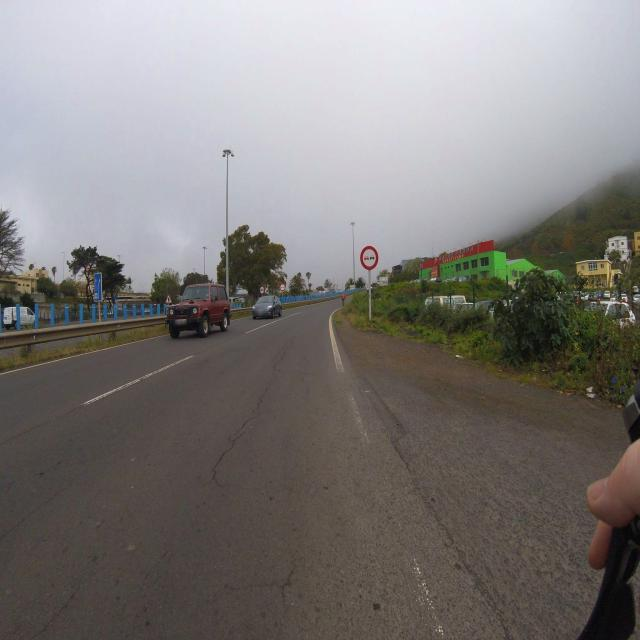car: (166, 282, 232, 339), (2, 304, 37, 330), (251, 294, 283, 320)
